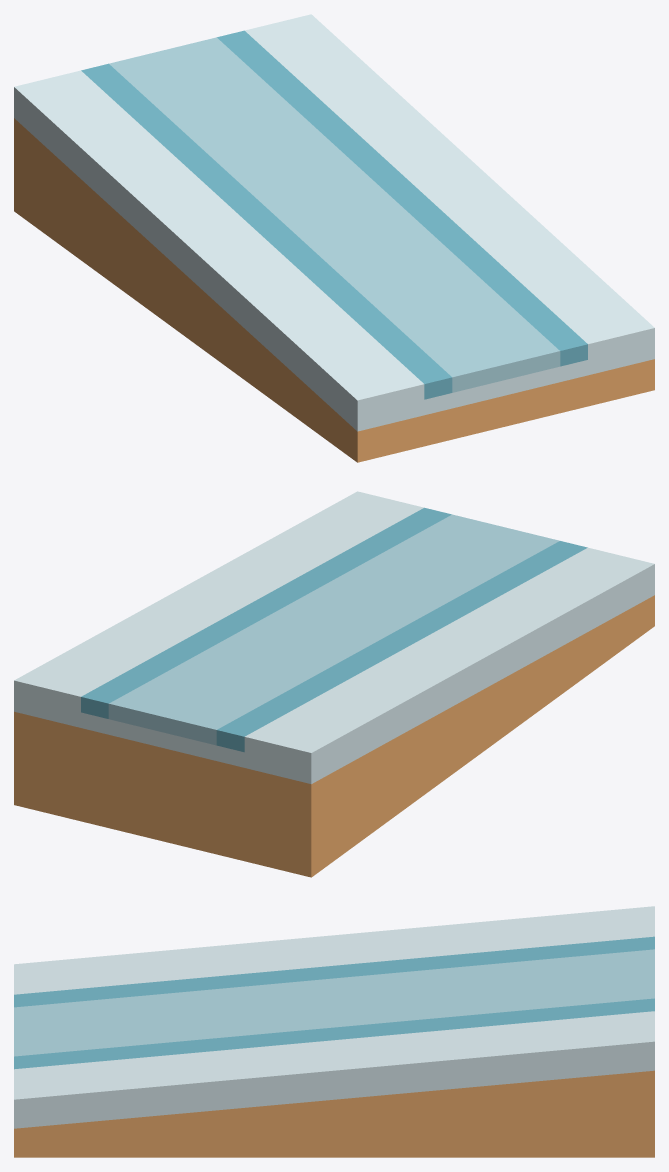
Rendered from snow_tile_straightHillLarge(+).fbx.
3 renders of one model, top to bottom at view 1: azimuth 30°, elevation 25°; view 2: azimuth 150°, elevation 25°; view 3: azimuth 270°, elevation 25°, orthographic. The views are drawn at different scales.
Visible parts, largest first — view 1: Mesh_1; view 2: Mesh_1; view 3: Mesh_1.
Boxes of the visible parts, x1,y1,x2,y2 form: Mesh_1: (14,14,654,462); Mesh_1: (14,491,654,877); Mesh_1: (14,906,654,1157).
Bounding box in the file's own units: 100 × 40 × 200.
